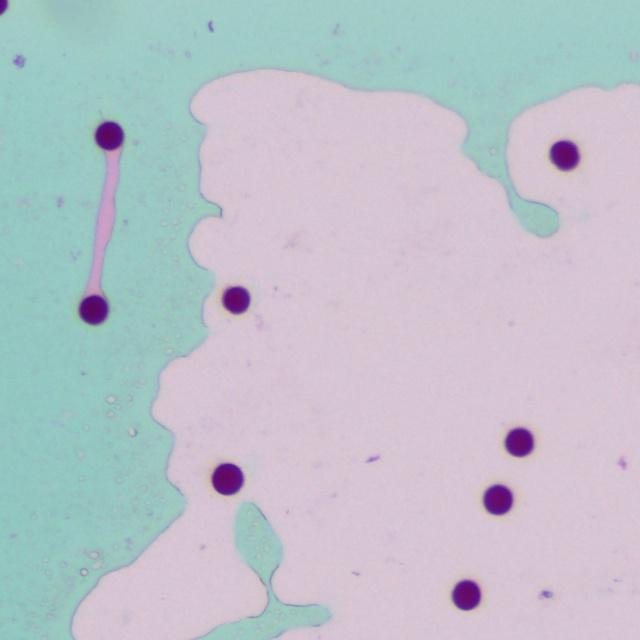viable: (212, 463, 243, 495), (550, 140, 579, 170), (452, 580, 480, 610), (484, 485, 512, 514), (505, 427, 533, 456), (95, 121, 123, 150), (80, 296, 108, 324), (222, 287, 250, 313), (0, 0, 7, 14)
